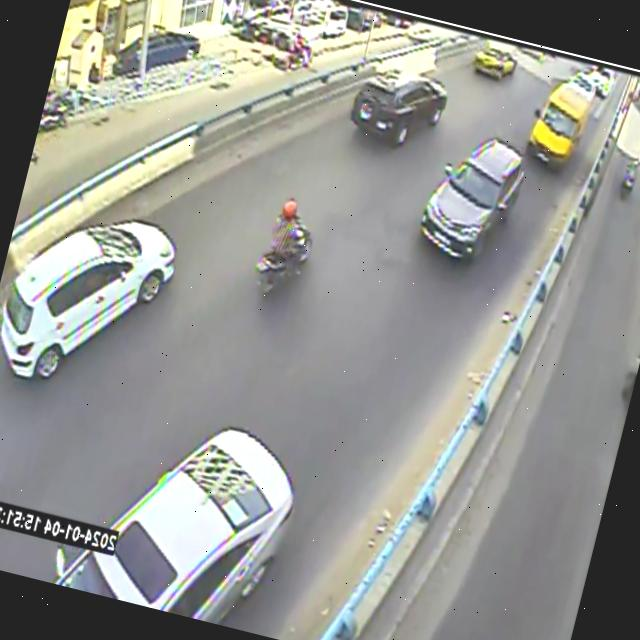car: (54, 428, 294, 623), (0, 220, 175, 377), (421, 137, 524, 259), (350, 69, 447, 146), (526, 82, 592, 166), (473, 40, 517, 79)
